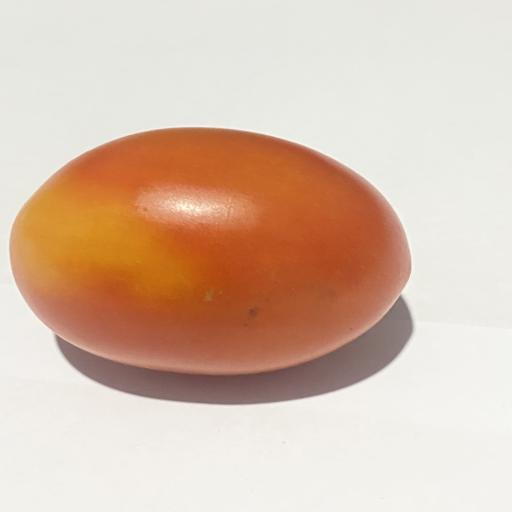ripe: (10, 128, 411, 375)
